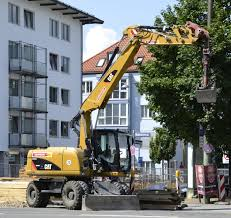excavator: (25, 24, 217, 209)
